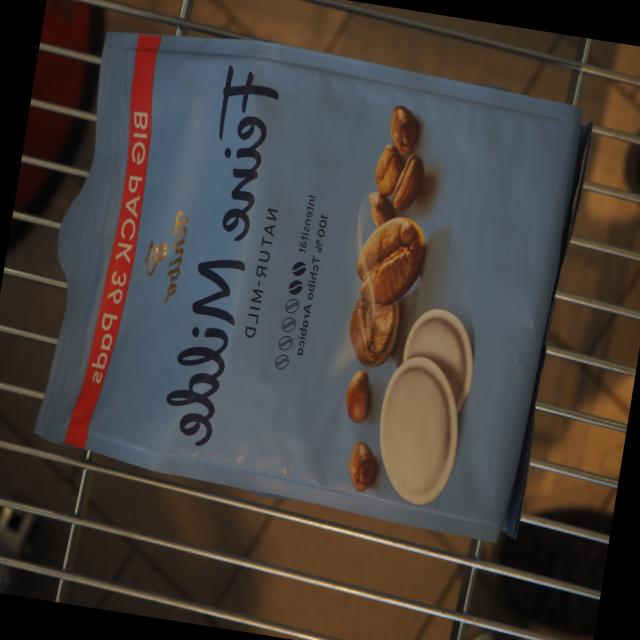FM 36 Pads: (9, 11, 604, 554)
